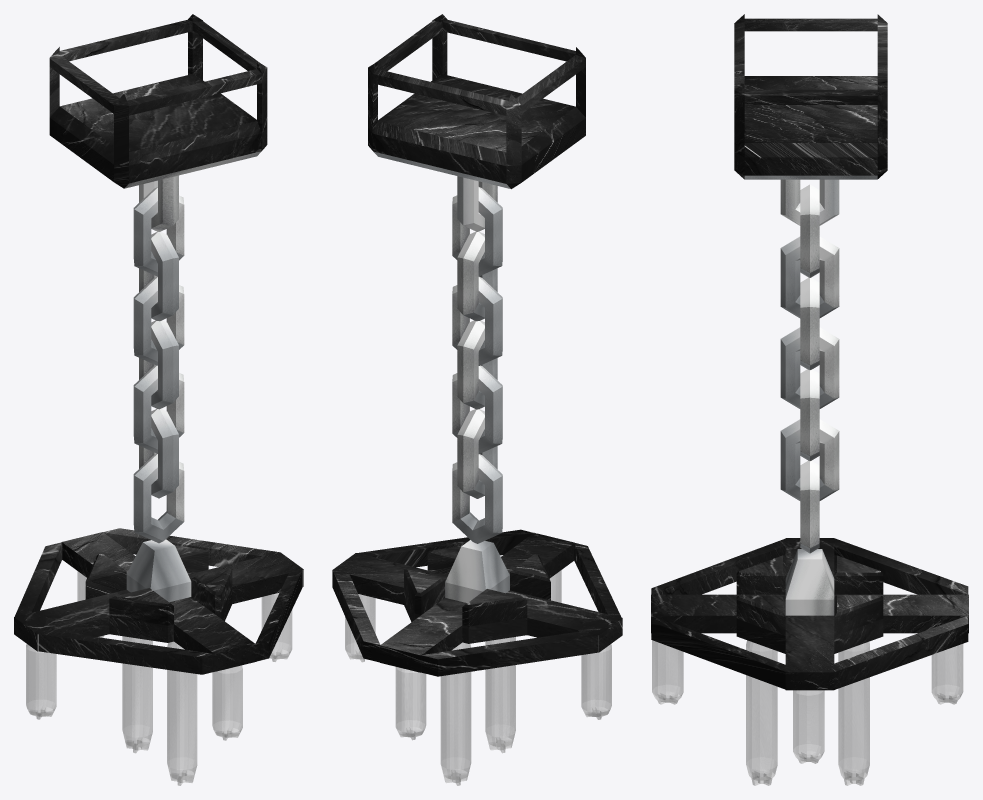
File: ChandelierREDUCED.fbx
3 views of the same model, side by side, from view 1: azimuth 30°, elevation 25°; view 2: azimuth 150°, elevation 25°; view 3: azimuth 270°, elevation 25° (orthographic). The views are drawn at different scales.
Parts seen in each view (by area): view 1: BottomShape; view 2: BottomShape; view 3: BottomShape.
Part boxes in pixels (left/top/right/bottom): BottomShape: left=14, top=14, right=303, bottom=785; BottomShape: left=332, top=14, right=622, bottom=785; BottomShape: left=651, top=14, right=968, bottom=785.
Size of the model in its own units: 2.17 by 5.52 by 2.17.
Materials: 4 (3 with a texture image).
